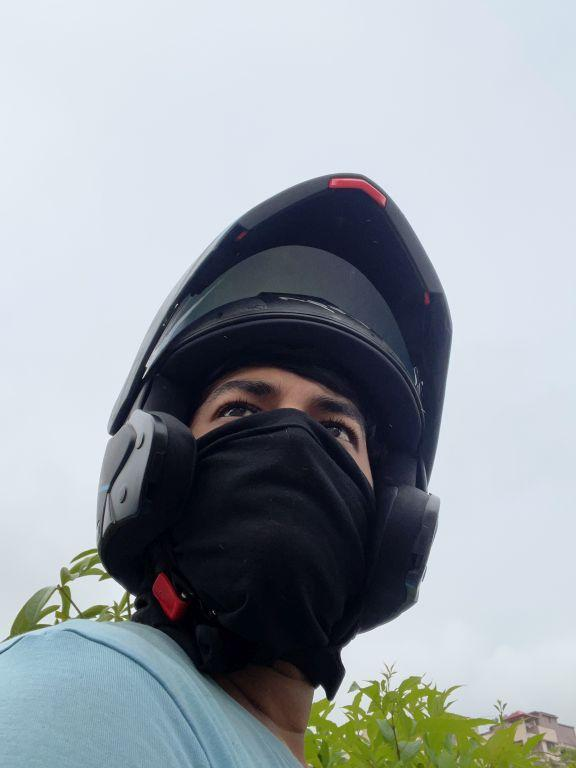helmet: (85, 152, 454, 647)
